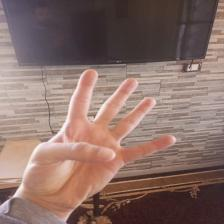four: (32, 68, 175, 202)
